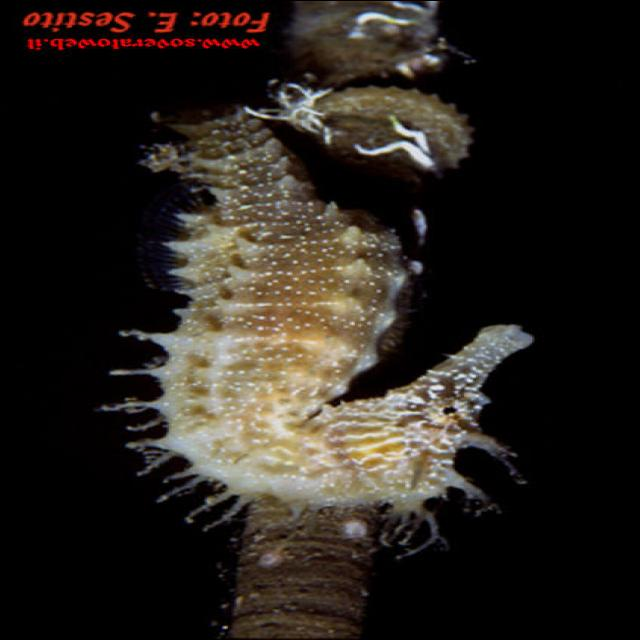Guttu: (314, 319, 556, 526)
